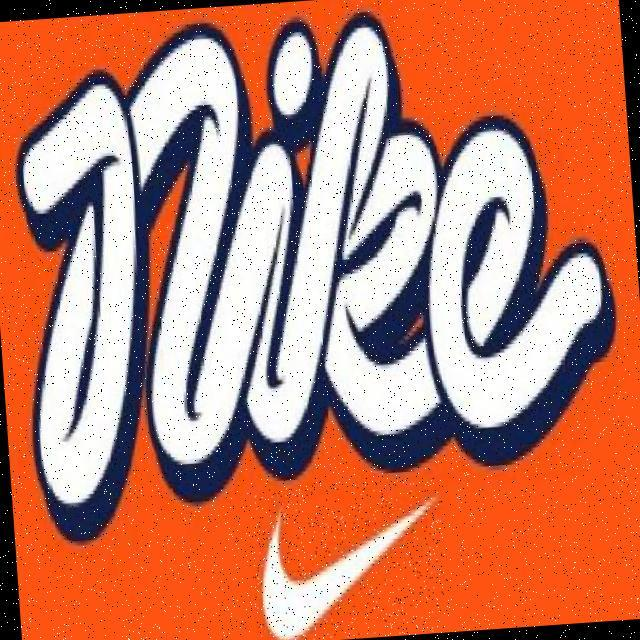Nike: (247, 476, 450, 640)
